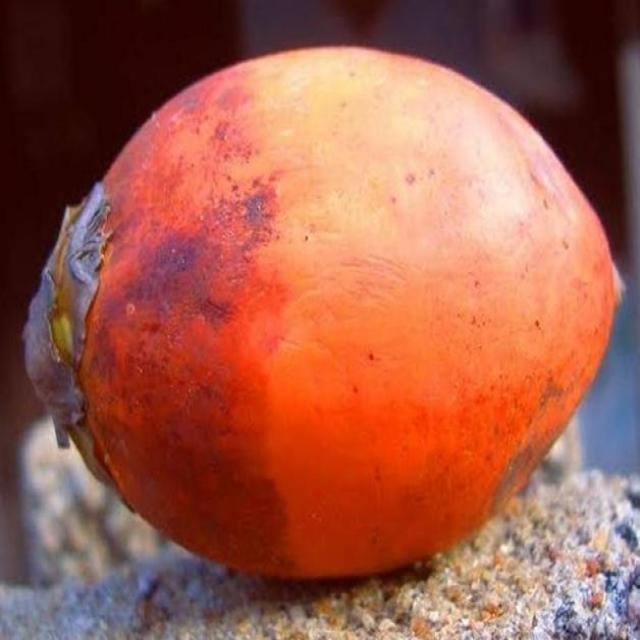good: (23, 46, 624, 585)
